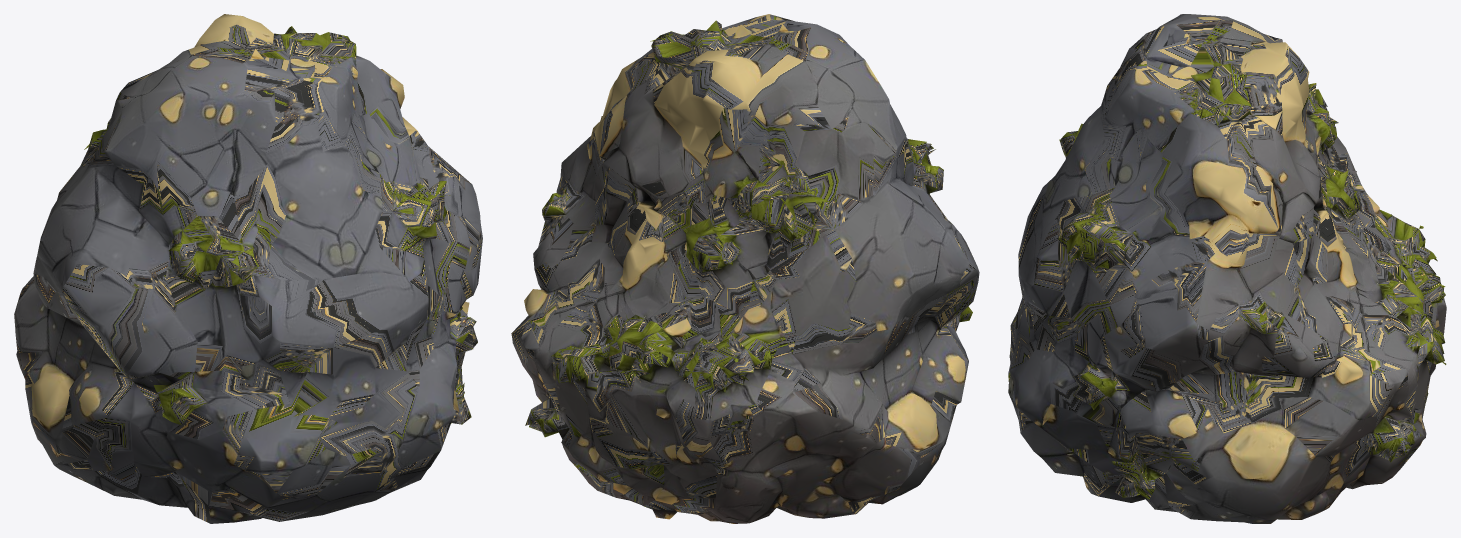
The model's file is mossy_gold_ore_rock_01.glb.
3 views of the same model, side by side, from view 1: azimuth 30°, elevation 25°; view 2: azimuth 150°, elevation 25°; view 3: azimuth 270°, elevation 25° (orthographic).
Parts seen in each view (by area): view 1: tripo_node_8e483157-ab93-4259-9549-5db71a426aed; view 2: tripo_node_8e483157-ab93-4259-9549-5db71a426aed; view 3: tripo_node_8e483157-ab93-4259-9549-5db71a426aed.
Part boxes in pixels (left/top/right/bottom): tripo_node_8e483157-ab93-4259-9549-5db71a426aed: left=14, top=14, right=482, bottom=523; tripo_node_8e483157-ab93-4259-9549-5db71a426aed: left=511, top=14, right=979, bottom=523; tripo_node_8e483157-ab93-4259-9549-5db71a426aed: left=1008, top=14, right=1446, bottom=523.
Size of the model in its own units: 0.9961 by 0.9905 by 0.9414.
1 material, 1 textured.
